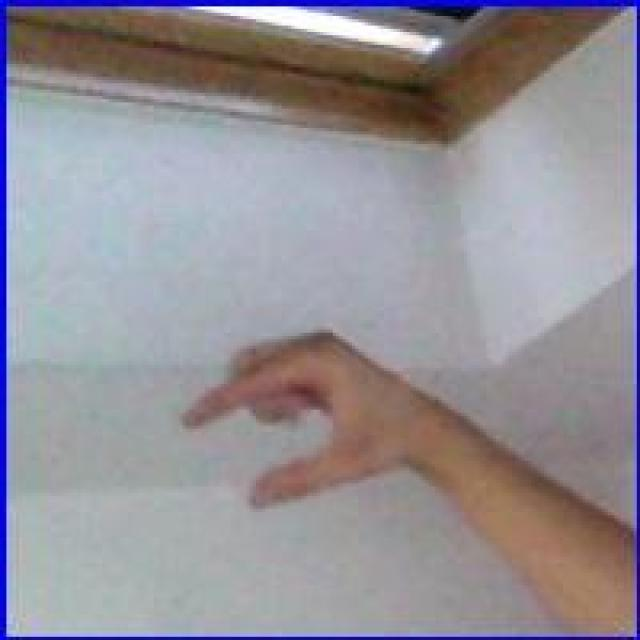Q: (174, 323, 421, 515)
